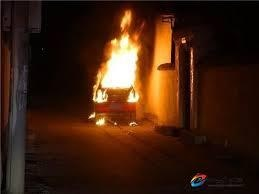fire: (92, 14, 142, 104)
